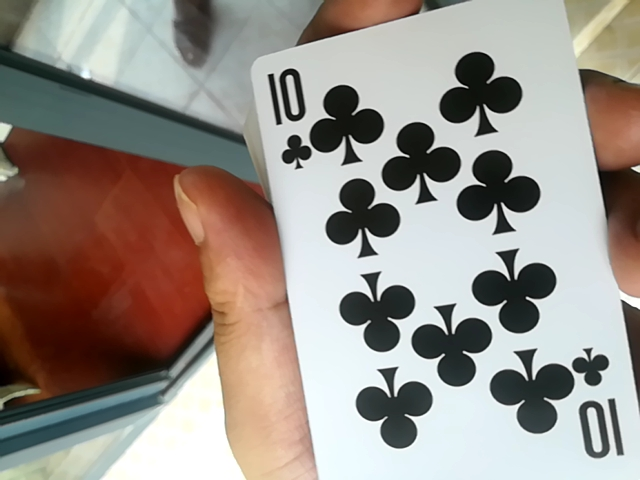mh 10: (234, 6, 634, 479)
